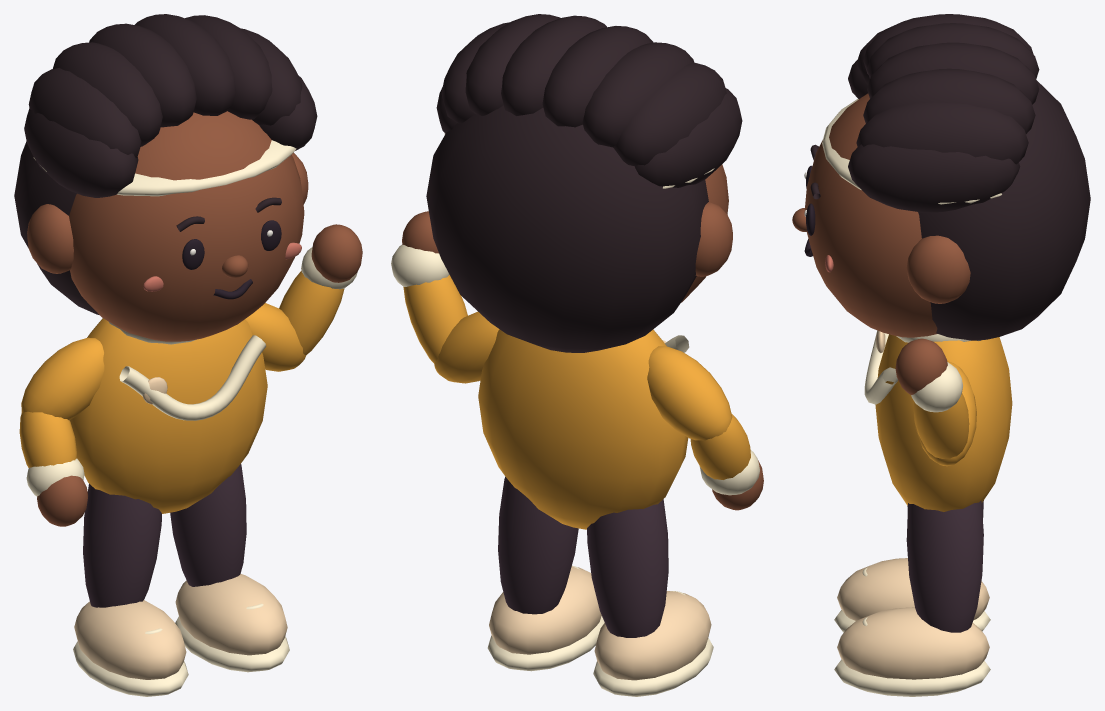
File: jax.glb
The picture shows the model from 3 angles, left to right: view 1: azimuth 30°, elevation 25°; view 2: azimuth 150°, elevation 25°; view 3: azimuth 270°, elevation 25°; orthographic projection. The views are drawn at different scales.
Parts seen in each view (by area): view 1: Face, Training jacket, Trouser leg, Sneaker upper, Sneaker upper.001, Trouser leg.001, Curl.007, Curl.006, Curl.004, Curl.005, Upper sleeve, Curl.003 (+16 smaller); view 2: Hair silhouette, Training jacket, Trouser leg, Trouser leg.001, Sneaker upper, Curl.006, Curl.005, Upper sleeve, Sneaker upper.001, Curl.004, Curl.003, Curl.007 (+13 smaller); view 3: Hair silhouette, Face, Training jacket, Curl, Trouser leg.001, Sneaker upper.001, Curl.001, Curl.002, Curl.003, Sneaker upper, Curl.004, Ear.001 (+8 smaller).
Part boxes in pixels (left/top/right/bottom): Face: left=69, top=111, right=304, bottom=341; Training jacket: left=69, top=318, right=267, bottom=513; Trouser leg: left=83, top=483, right=161, bottom=607; Sneaker upper: left=74, top=600, right=186, bottom=679; Sneaker upper.001: left=175, top=574, right=287, bottom=655; Trouser leg.001: left=170, top=464, right=246, bottom=586; Curl.007: left=24, top=108, right=138, bottom=197; Curl.006: left=28, top=68, right=141, bottom=158; Curl.004: left=89, top=23, right=196, bottom=127; Curl.005: left=53, top=42, right=162, bottom=146; Upper sleeve: left=21, top=337, right=104, bottom=420; Curl.003: left=135, top=14, right=235, bottom=115; Hair silhouette: left=426, top=105, right=708, bottom=352; Training jacket: left=478, top=329, right=688, bottom=529; Trouser leg: left=587, top=499, right=668, bottom=637; Trouser leg.001: left=498, top=476, right=578, bottom=614; Sneaker upper: left=594, top=591, right=711, bottom=680; Curl.006: left=613, top=62, right=726, bottom=166; Curl.005: left=582, top=42, right=694, bottom=147; Upper sleeve: left=647, top=346, right=732, bottom=440; Sneaker upper.001: left=489, top=566, right=601, bottom=654; Curl.004: left=542, top=26, right=653, bottom=127; Curl.003: left=501, top=15, right=606, bottom=115; Curl.007: left=635, top=88, right=742, bottom=187; Hair silhouette: left=918, top=80, right=1090, bottom=340; Face: left=804, top=93, right=937, bottom=337; Training jacket: left=875, top=334, right=1012, bottom=511; Curl: left=848, top=144, right=1020, bottom=212; Trouser leg.001: left=906, top=501, right=983, bottom=632; Sneaker upper.001: left=837, top=607, right=989, bottom=679; Curl.001: left=856, top=102, right=1028, bottom=164; Curl.002: left=863, top=68, right=1035, bottom=133; Curl.003: left=867, top=42, right=1039, bottom=104; Sneaker upper: left=837, top=558, right=989, bottom=620; Curl.004: left=867, top=23, right=1039, bottom=78; Ear.001: left=906, top=235, right=970, bottom=303.
Size of the model in its own units: 2 by 3.53 by 1.52.
